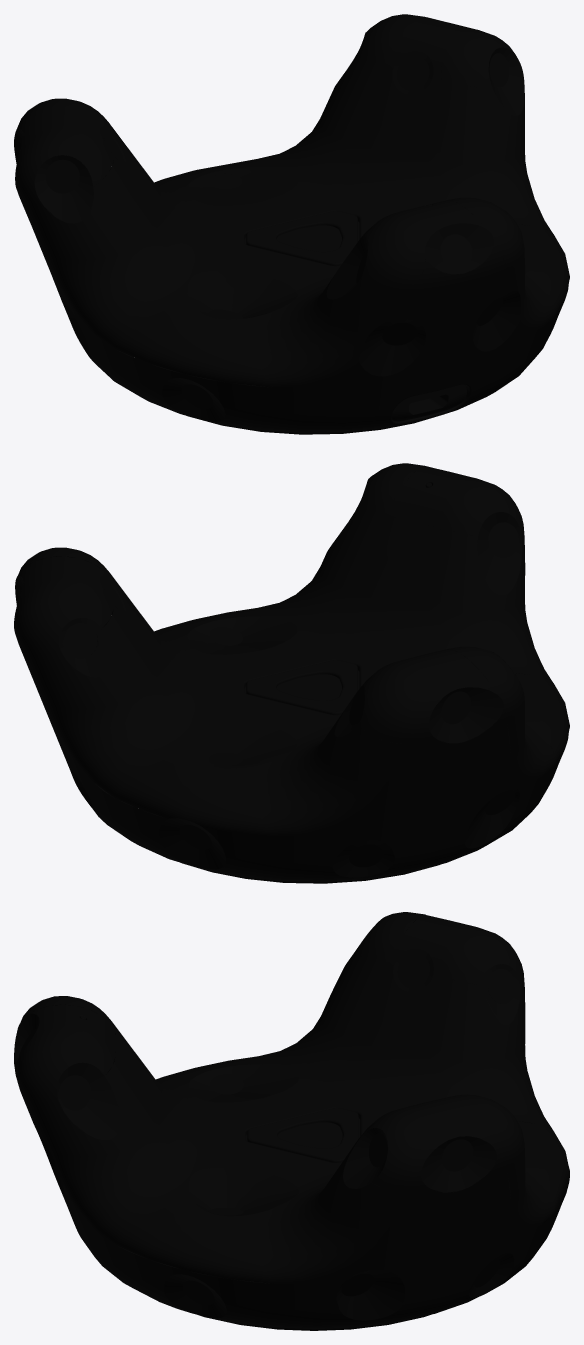
File: HTC_Vive_Tracker.obj
The picture shows the model from 3 angles, top to bottom: view 1: azimuth 30°, elevation 25°; view 2: azimuth 150°, elevation 25°; view 3: azimuth 270°, elevation 25°; orthographic projection.
Visible parts, largest first — view 1: HTC_Vive_Tracker; view 2: HTC_Vive_Tracker; view 3: HTC_Vive_Tracker.
Boxes of the visible parts, x1,y1,x2,y2 form: HTC_Vive_Tracker: (14,14,569,434); HTC_Vive_Tracker: (14,463,569,883); HTC_Vive_Tracker: (14,912,569,1330).
Bounding box in the file's own units: 94.49 × 42.29 × 92.12.
Materials: 1 (1 with a texture image).
